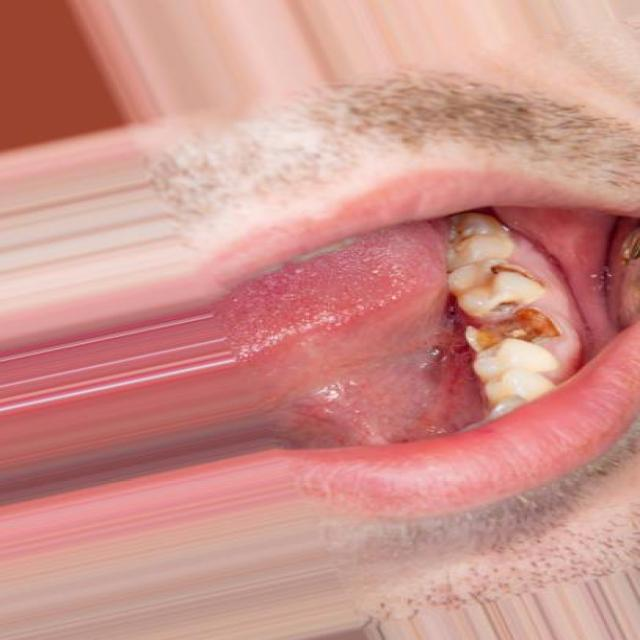caries: (456, 294, 578, 352), (469, 253, 545, 290)
